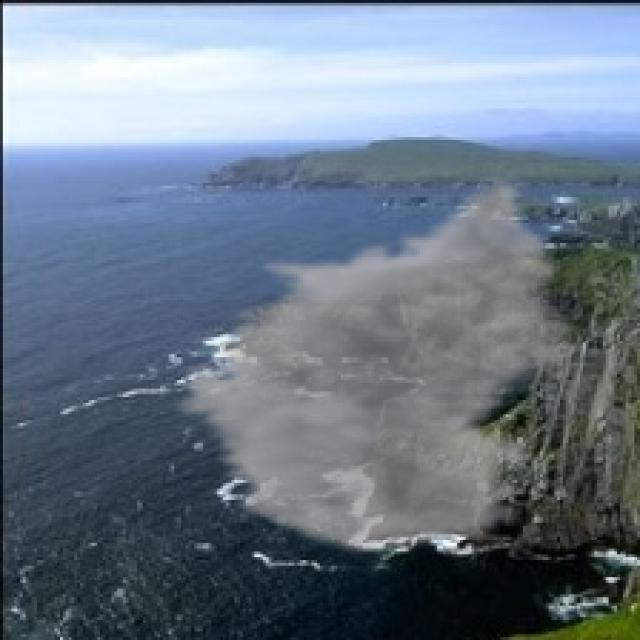Smoke: (166, 174, 588, 557)
